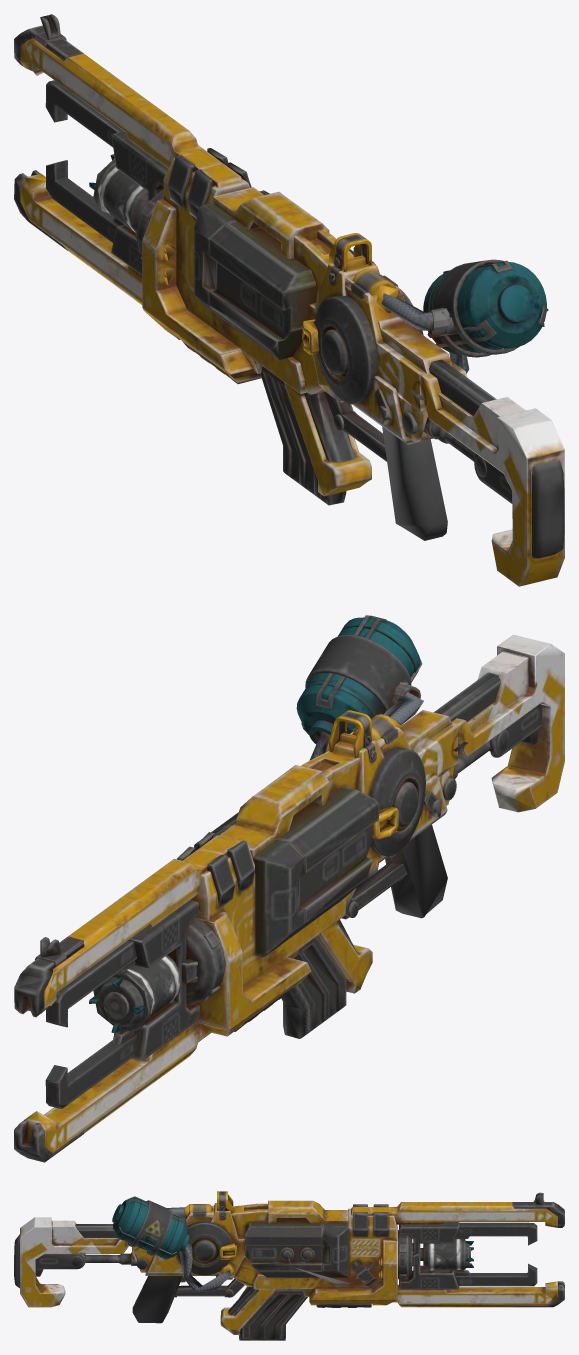
Rendered from herald-rifle.glb.
The picture shows the model from 3 angles, top to bottom: view 1: azimuth 30°, elevation 25°; view 2: azimuth 150°, elevation 25°; view 3: azimuth 270°, elevation 25°; orthographic projection. The views are drawn at different scales.
Parts seen in each view (by area): view 1: Object_11, Object_8, Object_14; view 2: Object_11, Object_8, Object_14; view 3: Object_11, Object_8, Object_14.
Boxes of the visible parts, <box> form: Object_11: <box>20,38,564,586</box>; Object_8: <box>14,14,548,505</box>; Object_14: <box>45,80,168,274</box>; Object_11: <box>24,634,564,1153</box>; Object_8: <box>14,615,542,1162</box>; Object_14: <box>45,900,225,1108</box>; Object_11: <box>14,1200,557,1335</box>; Object_8: <box>35,1191,564,1340</box>; Object_14: <box>398,1222,537,1289</box>.
Size of the model in its own units: 0.1675 by 0.314 by 0.9999.
2 materials, 2 textured.
